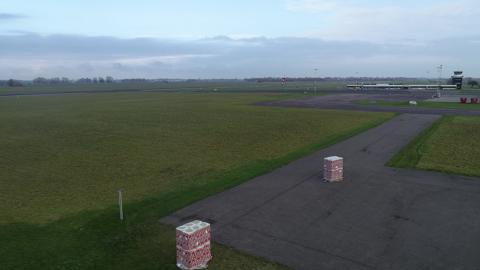RockwoolPallet: (326, 153, 341, 182)
